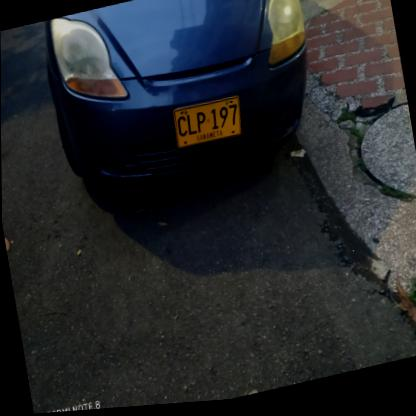placa: (167, 93, 245, 155)
